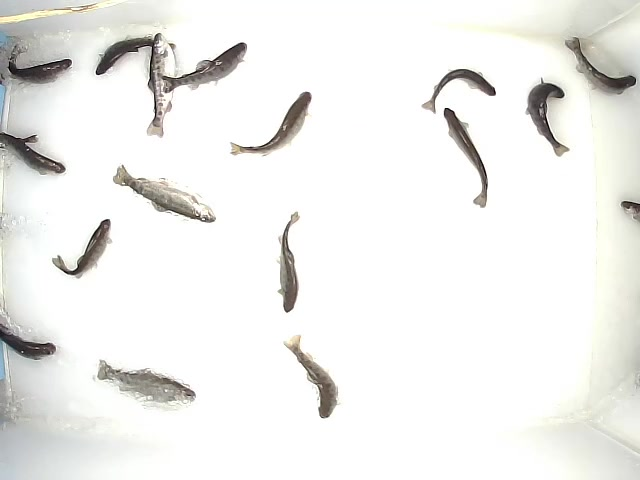fish: (110, 162, 218, 225), (228, 90, 313, 158), (283, 333, 341, 420), (95, 359, 198, 407), (161, 41, 248, 94), (443, 107, 488, 209), (566, 37, 638, 97), (524, 77, 572, 159), (51, 218, 112, 280), (421, 69, 497, 115), (146, 32, 178, 140), (94, 35, 177, 76), (6, 42, 74, 86), (1, 132, 67, 177), (275, 210, 300, 313)
